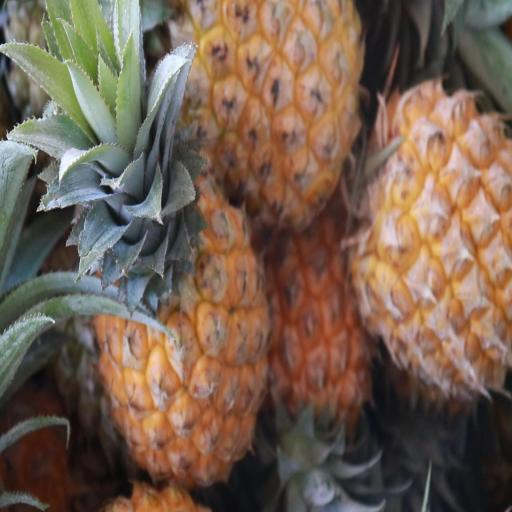Pineapple - v8 v1: (84, 128, 271, 488), (357, 74, 512, 384), (194, 2, 367, 222), (268, 209, 398, 433)
